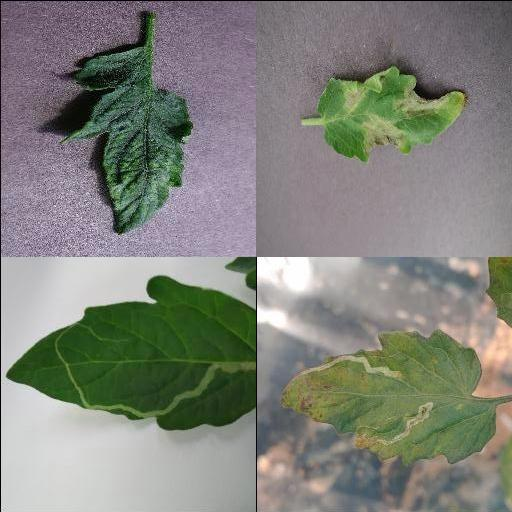Late Blight: (317, 63, 469, 161)
Leaf Miner: (5, 272, 256, 432), (279, 326, 497, 468)
Mosaic Virus: (58, 45, 192, 233)
